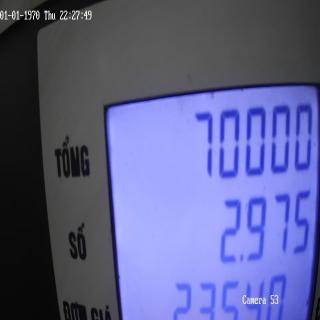screen: (97, 69, 317, 320)
